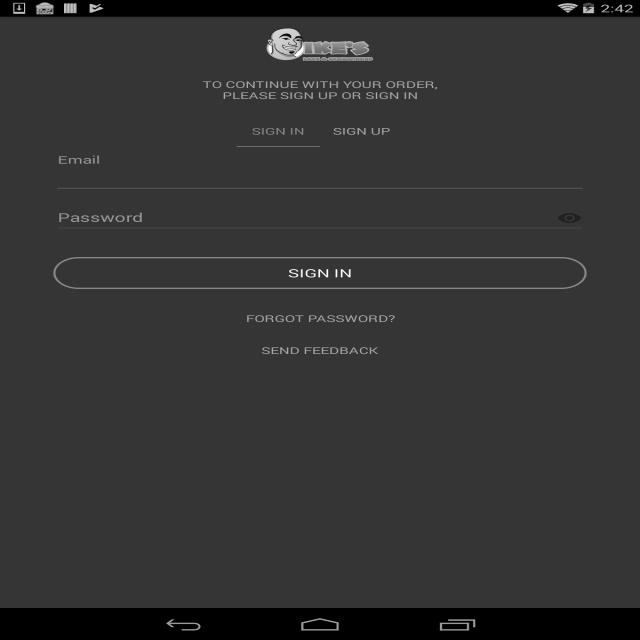Button: (53, 257, 587, 289), (232, 302, 408, 334), (248, 334, 391, 366)
EditText: (53, 163, 587, 194), (53, 203, 587, 234)
ImageButton: (552, 204, 586, 234)
ImageView: (266, 28, 374, 61)
TextView: (0, 78, 640, 102), (333, 125, 390, 137), (252, 125, 304, 137)
